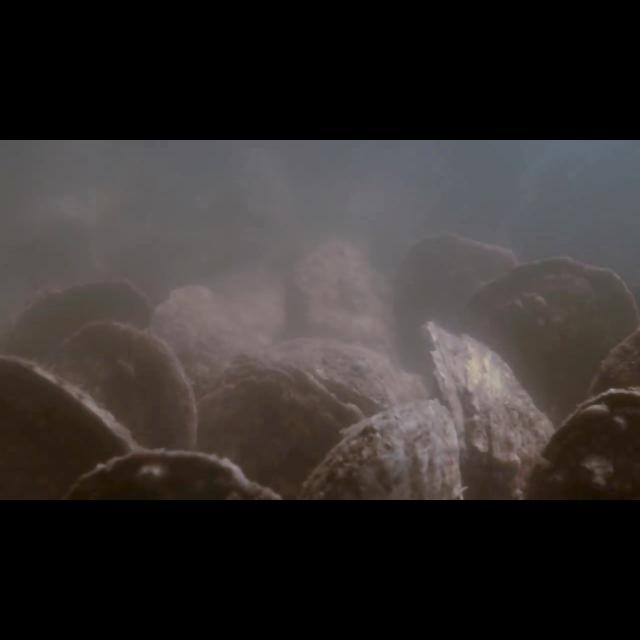Oyster-Closed: (456, 252, 638, 409), (421, 319, 558, 477), (193, 370, 368, 486), (43, 317, 197, 447), (2, 350, 142, 486), (283, 399, 468, 498), (387, 234, 519, 359), (248, 338, 436, 413), (147, 283, 274, 387), (517, 386, 638, 494), (278, 241, 397, 350), (7, 275, 150, 349), (67, 449, 283, 495), (580, 330, 638, 398)
